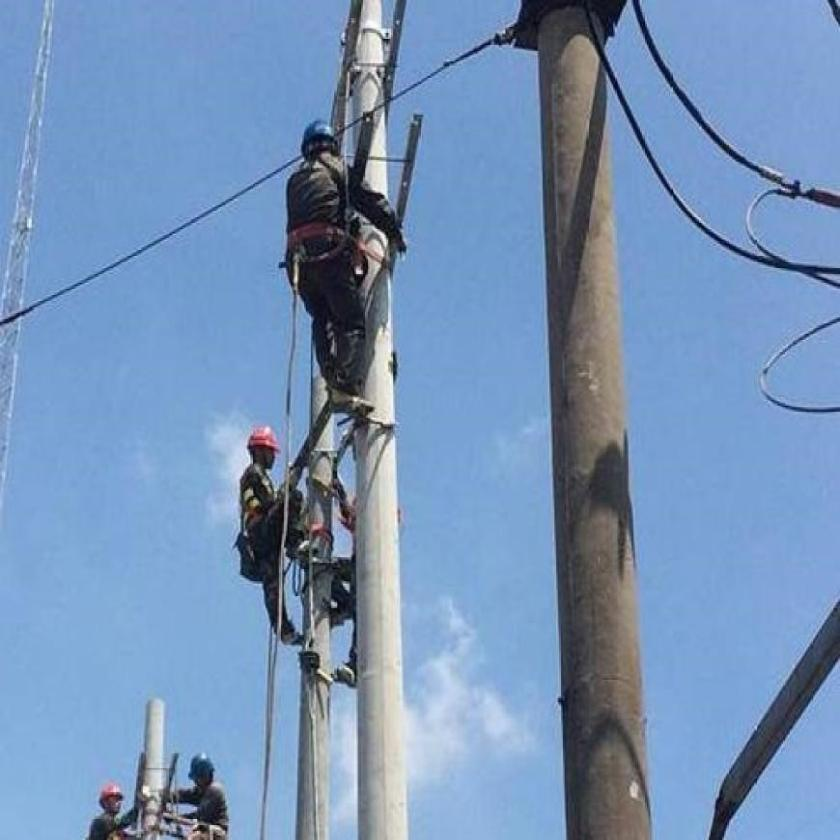Con_casco: (299, 119, 338, 167), (247, 422, 282, 474), (180, 754, 217, 790), (99, 784, 126, 819)
